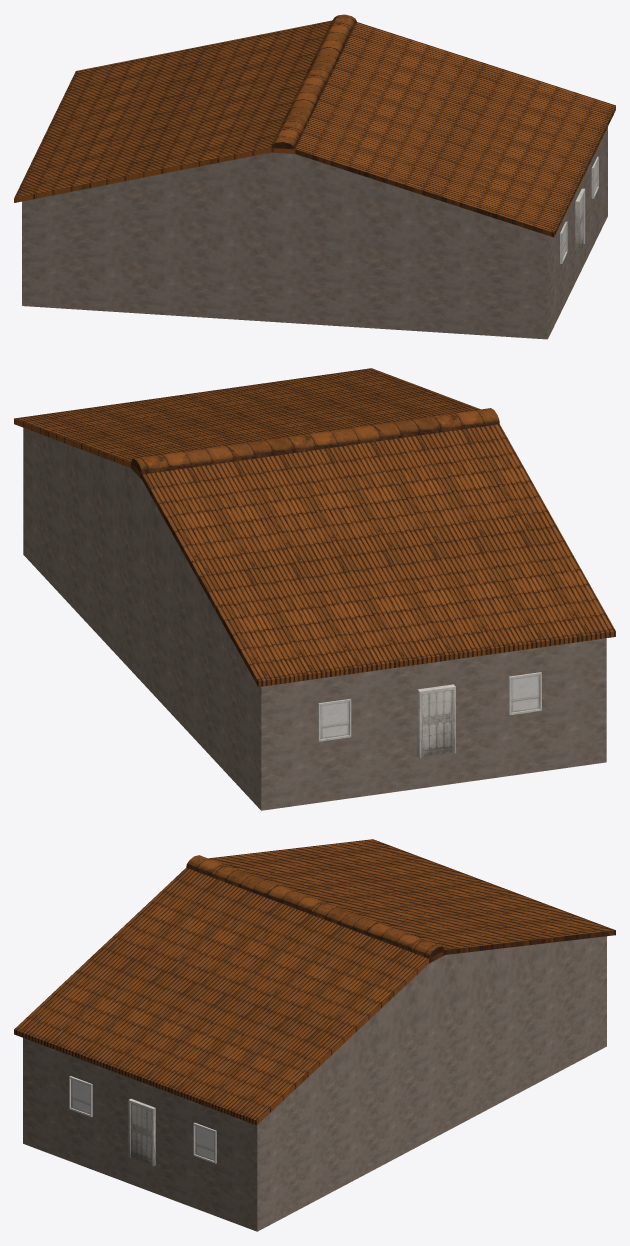
The model's file is Casa_2.fbx.
3 renders of one model, top to bottom at view 1: azimuth 30°, elevation 25°; view 2: azimuth 150°, elevation 25°; view 3: azimuth 270°, elevation 25°, orthographic. The views are drawn at different scales.
Visible parts, largest first — view 1: Casa_2; view 2: Casa_2; view 3: Casa_2.
Part boxes in pixels (<box>): Casa_2: <box>14,14,615,339</box>; Casa_2: <box>14,368,615,810</box>; Casa_2: <box>14,839,615,1231</box>.
Bounding box in the file's own units: 21.12 × 6.75 × 19.09.
